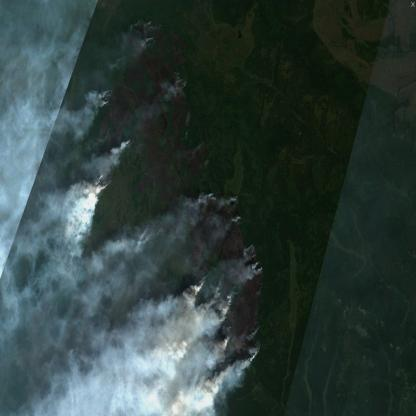fire: (196, 181, 265, 390), (136, 16, 161, 56), (168, 63, 188, 106), (92, 84, 112, 110), (116, 130, 134, 156), (93, 171, 111, 194)
